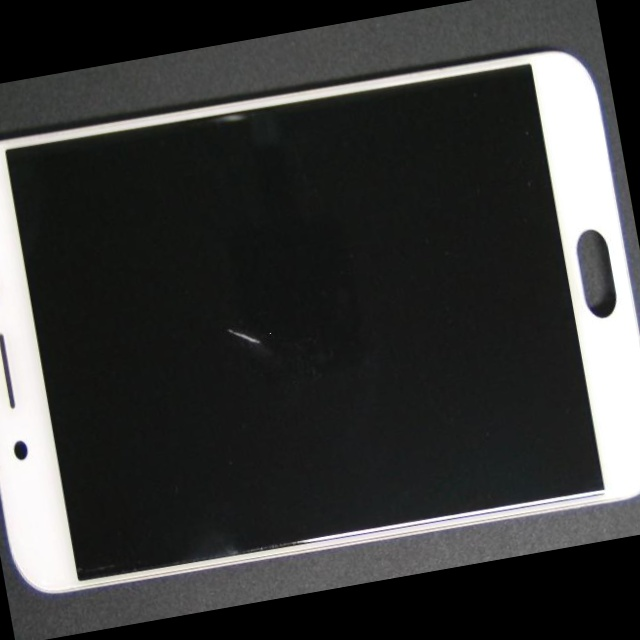scratch: (38, 174, 383, 553)
